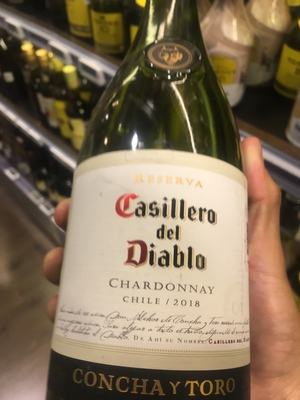casillero del diablo chardonnay: (42, 21, 265, 400)
